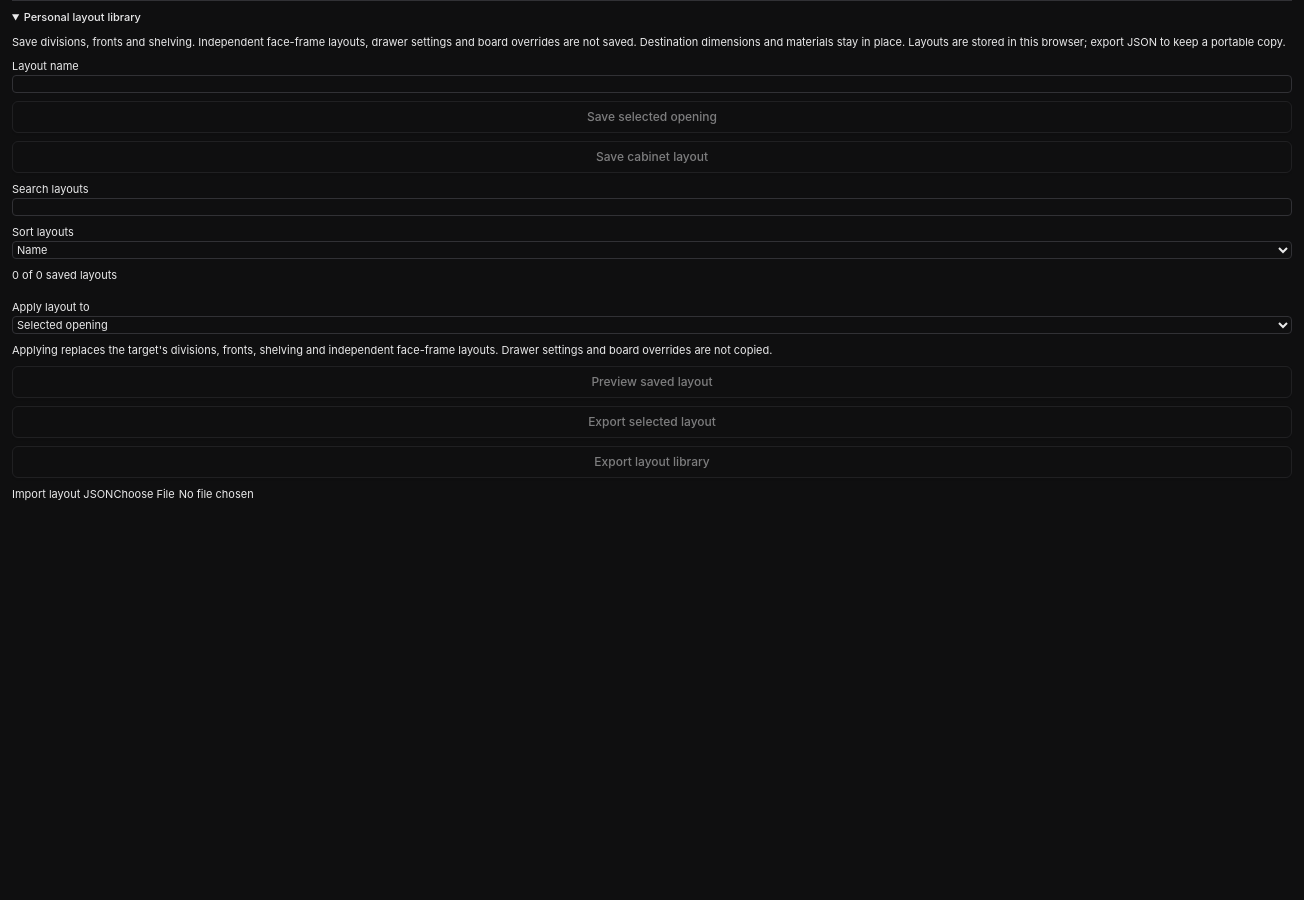
Test: refreshes external library changes and detects conflicts before overwriting storage
The image size is (1304, 900).
In the field labelled "Layout name": (652, 84) left=12, top=74, right=1292, bottom=93, type "Kitchen"
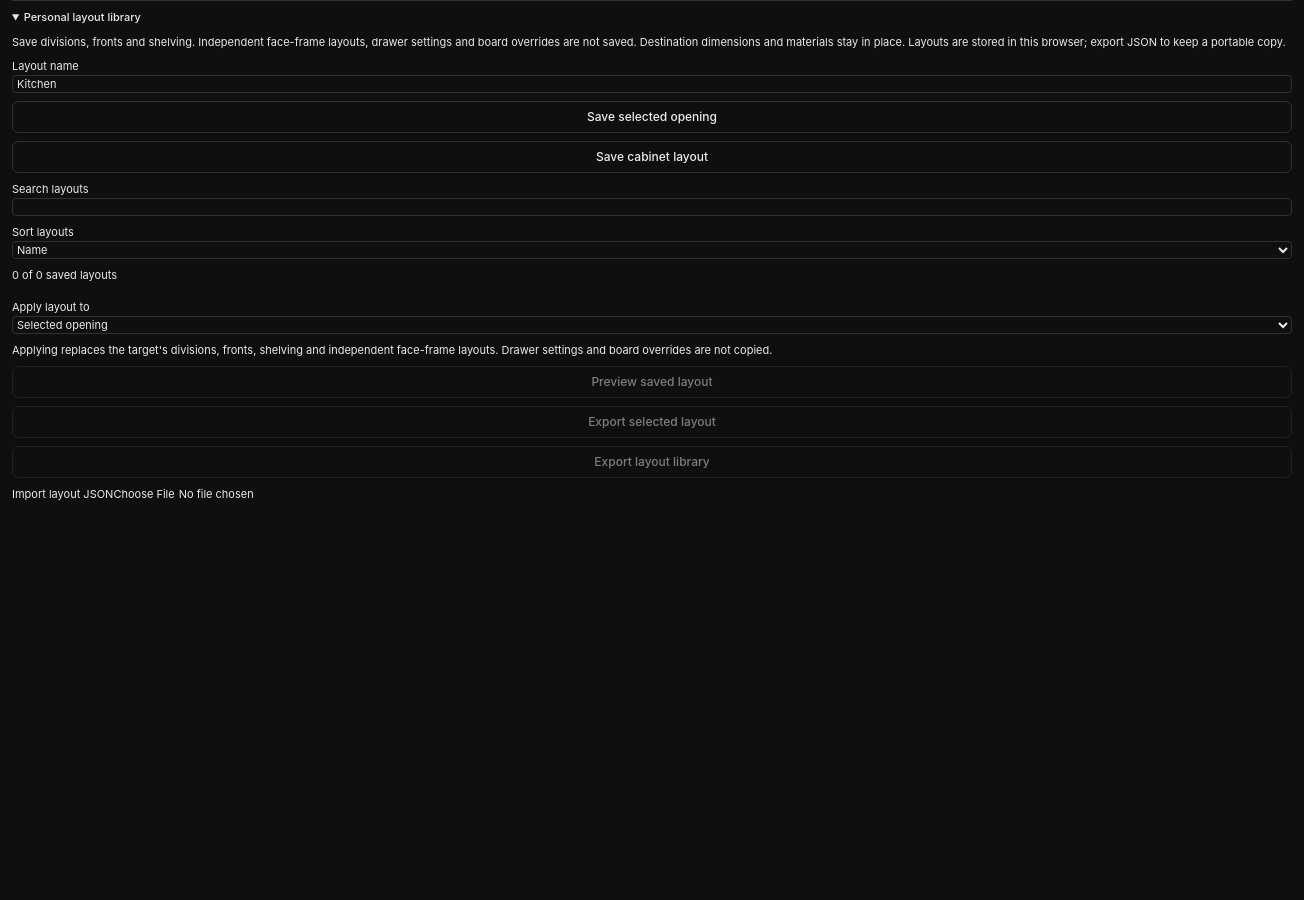
Click the button "Save cabinet layout": (652, 157) left=12, top=141, right=1292, bottom=173
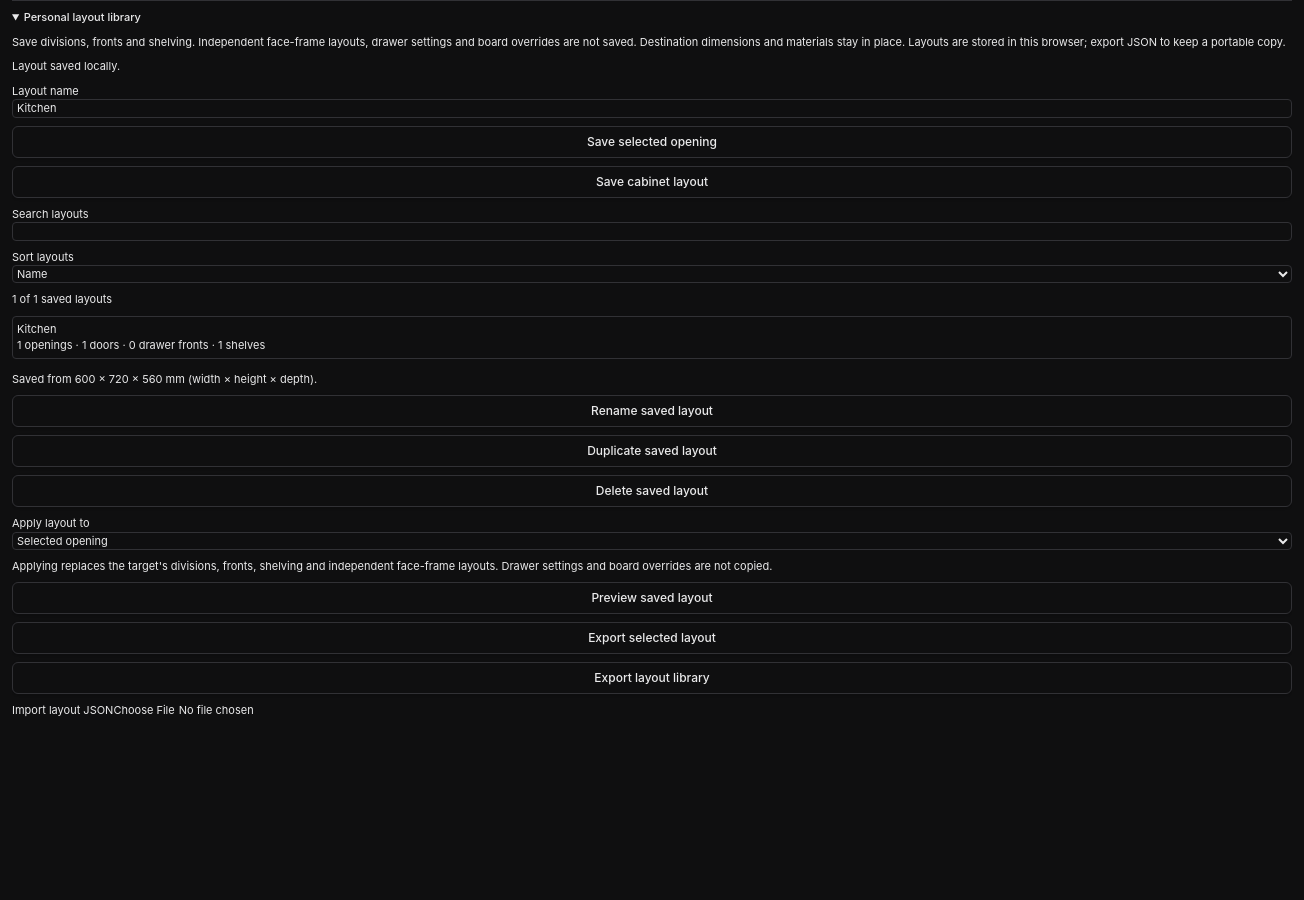
Replace the text in the field labelled "Layout name" with "Unsaved": (652, 108) left=12, top=99, right=1292, bottom=118
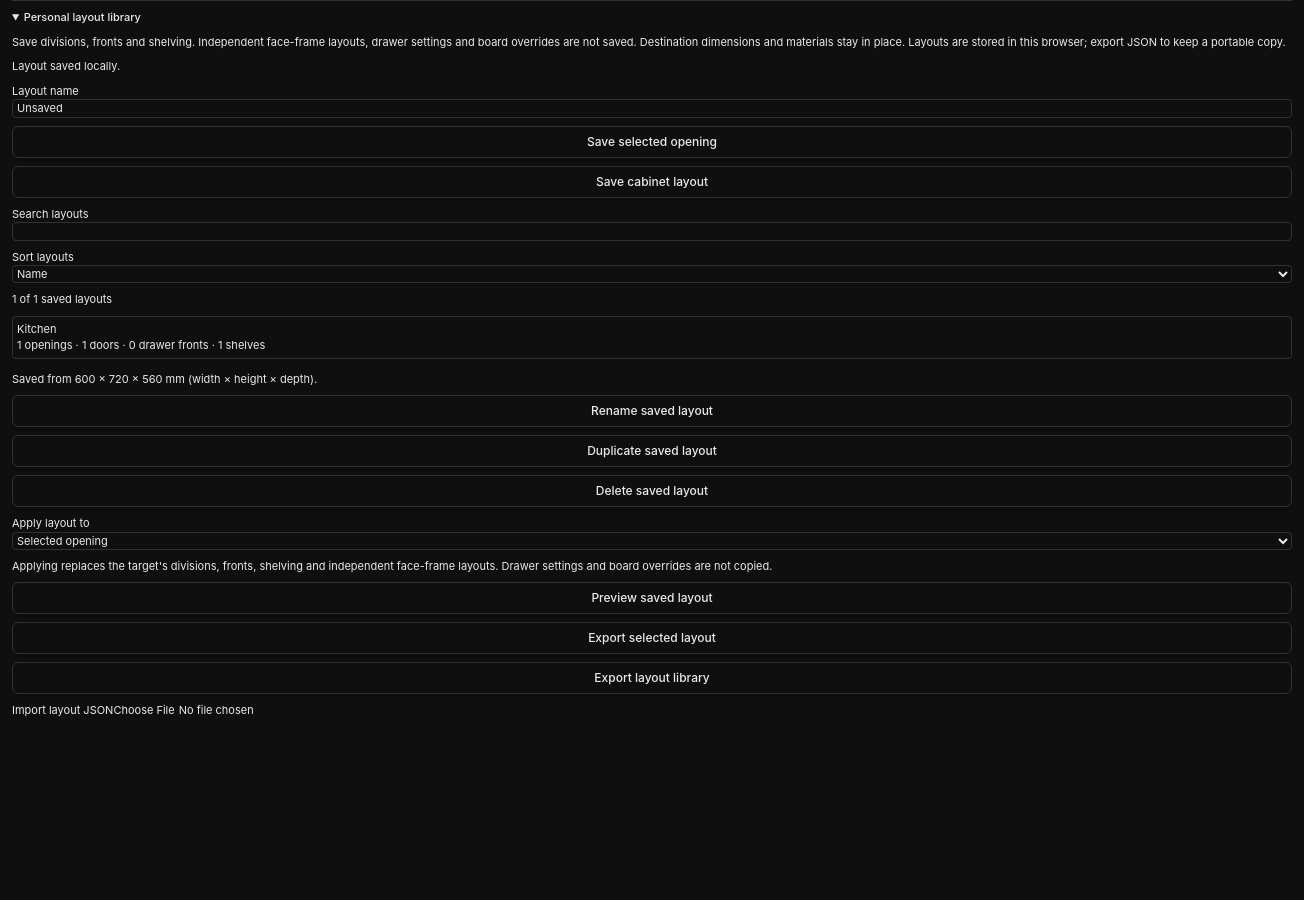
Click the button "Rename saved layout": (652, 411) left=12, top=395, right=1292, bottom=427
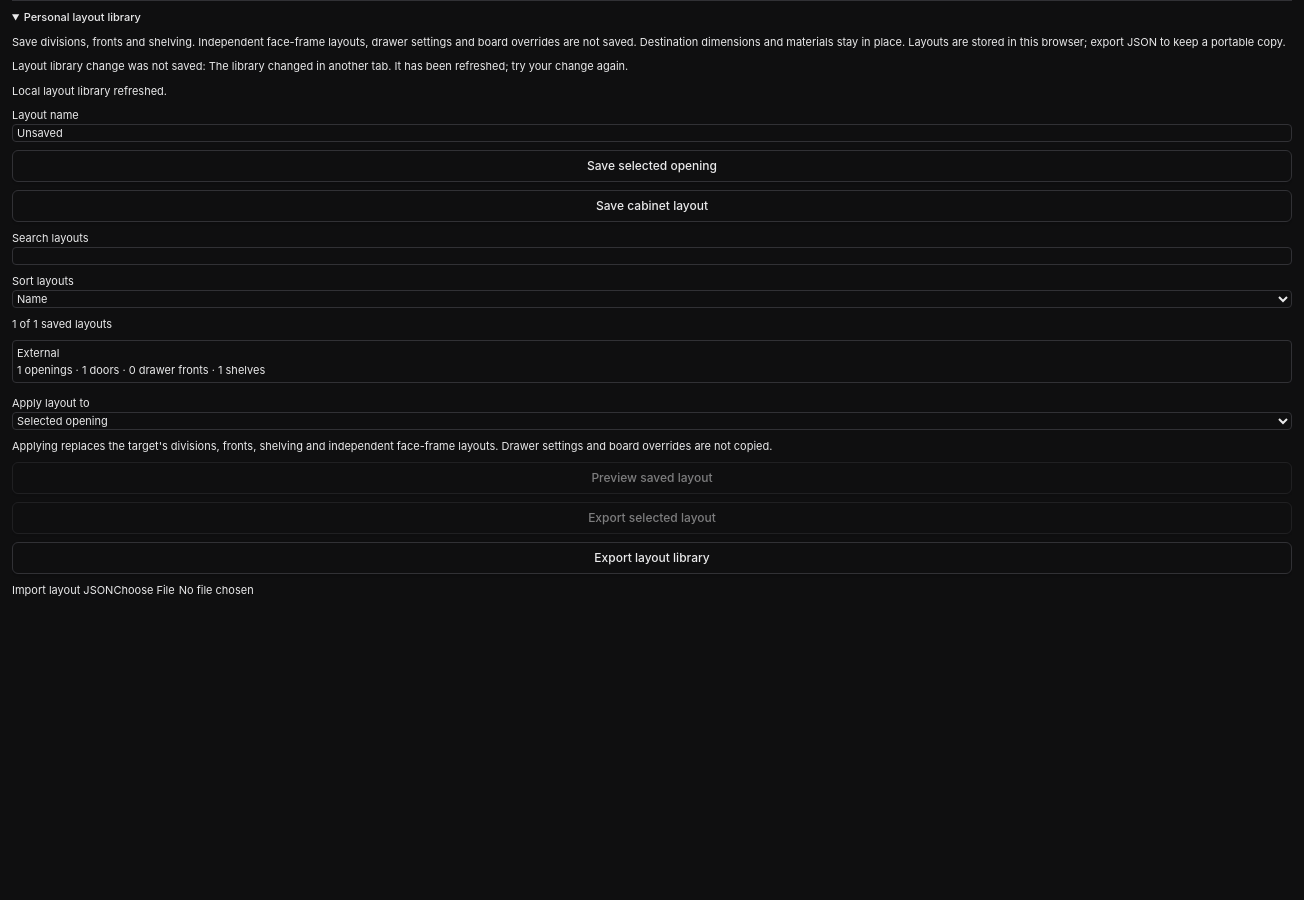
Check: the 1st message shows "another tab", box left=12, top=59, right=628, bottom=73
Check: the button "External 1 openings · 1 doors · 0 drawer fronts · 1 shelves" is shown, box left=12, top=340, right=1292, bottom=383
